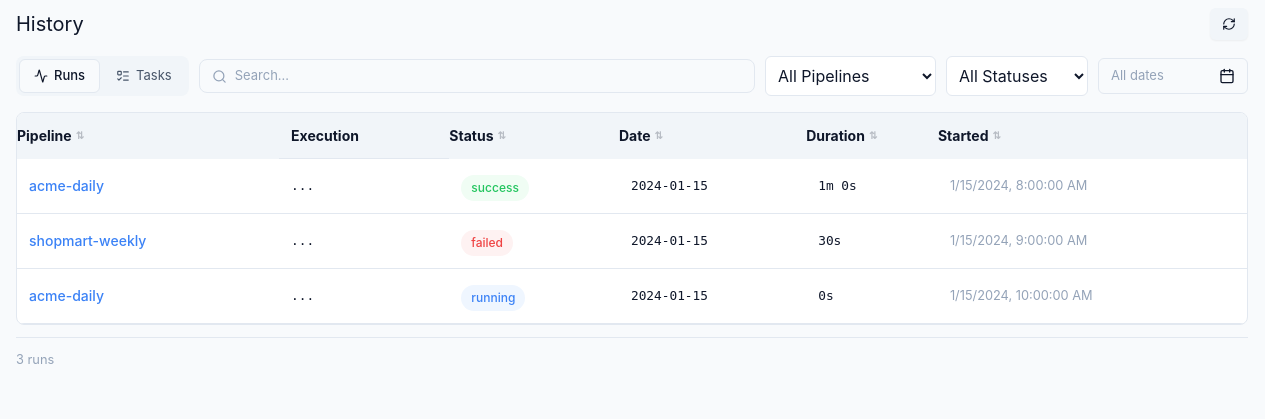
AllRunsView › filtering › updates store when status filter changed
Select "Failed" in the dropdown showing "All Statuses" at {"x": 1017, "y": 76}, box top-left (946, 56), bottom-right (1088, 96)
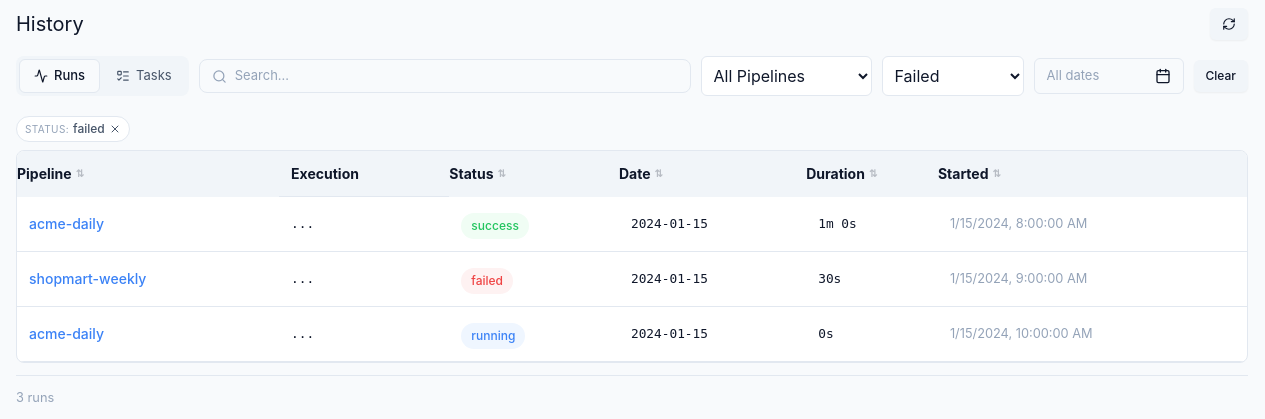
expect the 1st text "failed" is shown: met, box top-left (73, 120), bottom-right (105, 138)
